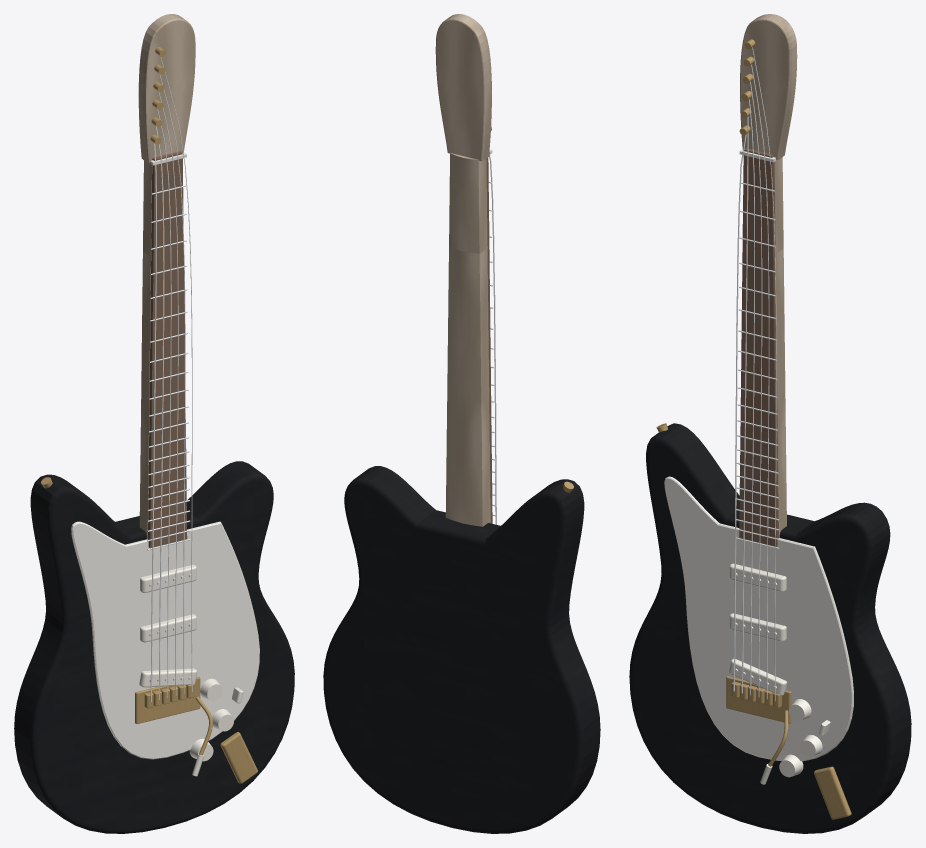
Rendered from curated-guitar-black.glb.
3 renders of one model, left to right at view 1: azimuth 30°, elevation 25°; view 2: azimuth 150°, elevation 25°; view 3: azimuth 330°, elevation 25°, orthographic.
Parts seen in each view (by area): view 1: SubPart, SubPart.001, SubPart.003, SubPart.005, SubPart.002, Guitar_Instanced_22Frets, SubPart.009, SubPart.025, SubPart.022, SubPart.026, SubPart.029, SubPart.028 (+5 smaller); view 2: SubPart, SubPart.002, SubPart.005, SubPart.003, SubPart.025; view 3: SubPart, SubPart.001, SubPart.003, SubPart.005, SubPart.002, Guitar_Instanced_22Frets, SubPart.009, SubPart.022, SubPart.025, SubPart.026, SubPart.029, SubPart.030 (+5 smaller).
Part boxes in pixels (x1=…): SubPart: x1=14, y1=461, x2=294, y2=833; SubPart.001: x1=71, y1=521, x2=259, y2=759; SubPart.003: x1=148, y1=151, x2=187, y2=548; SubPart.005: x1=138, y1=14, x2=195, y2=163; SubPart.002: x1=139, y1=160, x2=152, y2=539; Guitar_Instanced_22Frets: x1=147, y1=185, x2=190, y2=550; SubPart.009: x1=135, y1=677, x2=200, y2=723; SubPart.025: x1=150, y1=143, x2=156, y2=701; SubPart.022: x1=220, y1=732, x2=257, y2=783; SubPart.026: x1=155, y1=126, x2=164, y2=699; SubPart.029: x1=159, y1=74, x2=185, y2=693; SubPart.028: x1=158, y1=91, x2=178, y2=695; SubPart: x1=323, y1=466, x2=600, y2=833; SubPart.002: x1=445, y1=153, x2=490, y2=526; SubPart.005: x1=435, y1=14, x2=491, y2=161; SubPart.003: x1=486, y1=157, x2=492, y2=523; SubPart.025: x1=489, y1=154, x2=496, y2=524; SubPart: x1=629, y1=423, x2=911, y2=833; SubPart.001: x1=664, y1=476, x2=853, y2=761; SubPart.003: x1=739, y1=148, x2=778, y2=546; SubPart.005: x1=740, y1=14, x2=797, y2=159; SubPart.002: x1=774, y1=157, x2=786, y2=537; Guitar_Instanced_22Frets: x1=736, y1=182, x2=779, y2=548; SubPart.009: x1=726, y1=676, x2=791, y2=723; SubPart.022: x1=814, y1=766, x2=851, y2=819; SubPart.025: x1=733, y1=134, x2=746, y2=691; SubPart.026: x1=741, y1=116, x2=748, y2=693; SubPart.029: x1=751, y1=64, x2=769, y2=699; SubPart.030: x1=752, y1=47, x2=776, y2=701.
Size of the model in its own units: 0.334 by 0.9855 by 0.079.
Materials: 7 (3 with a texture image).
